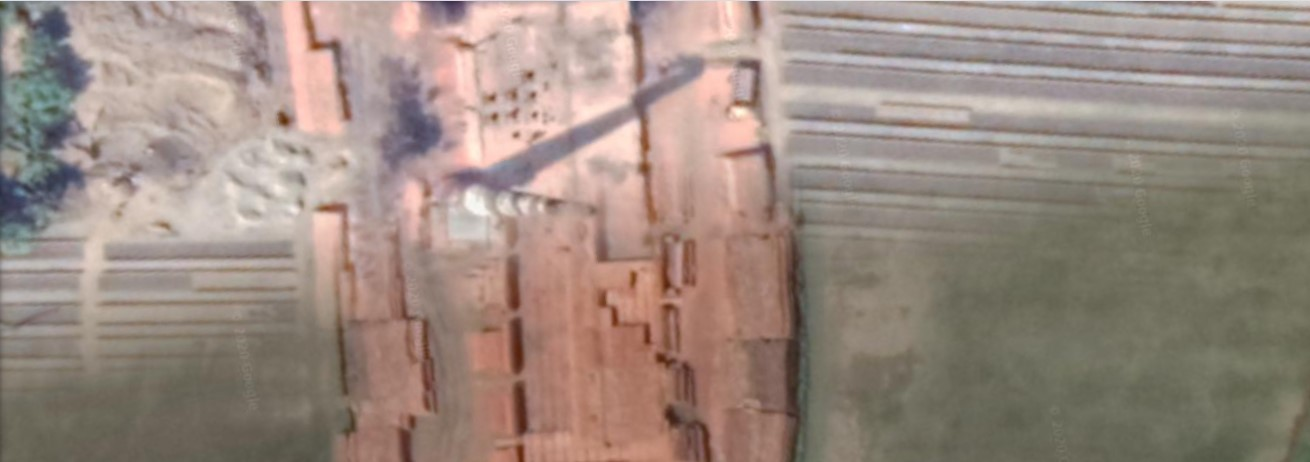kiln: (441, 15, 724, 375)
